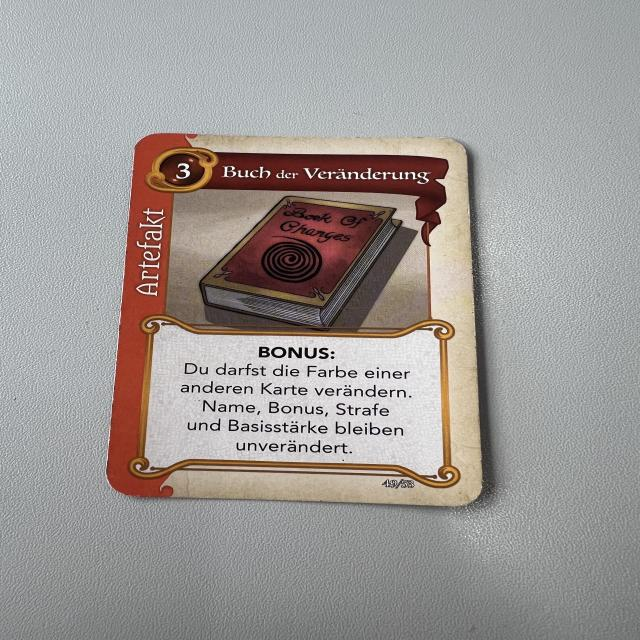test: (106, 132, 483, 506)
